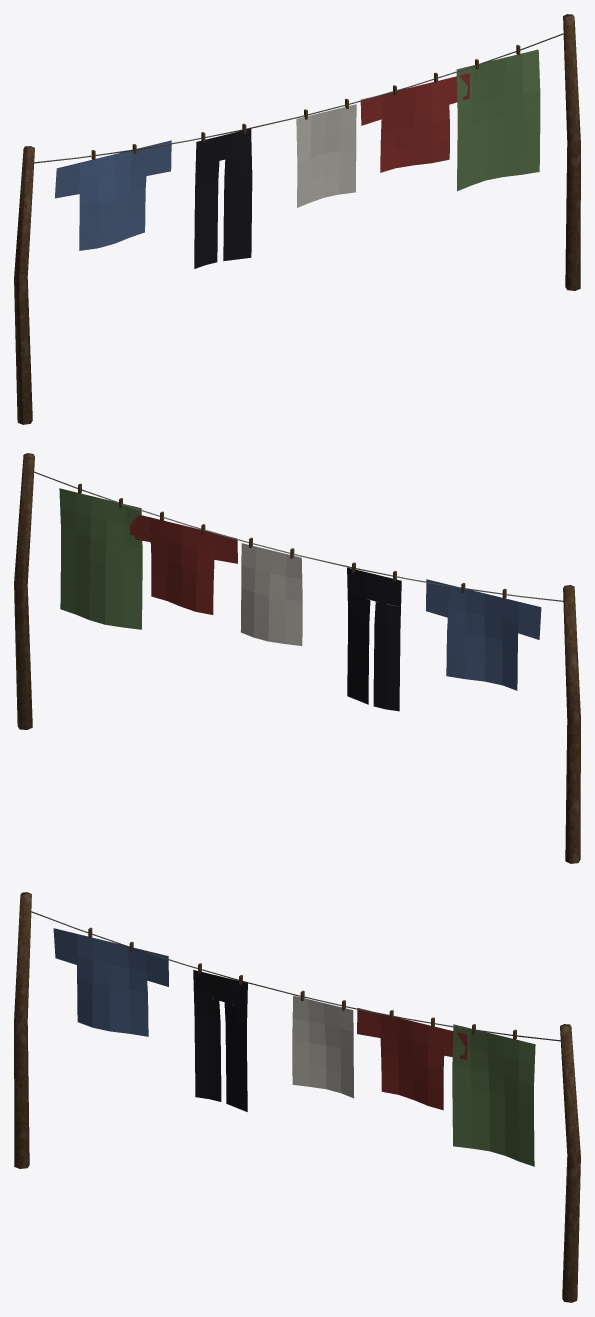
The model's file is clothesline.glb.
The picture shows the model from 3 angles, top to bottom: view 1: azimuth 30°, elevation 25°; view 2: azimuth 150°, elevation 25°; view 3: azimuth 330°, elevation 25°; orthographic projection.
Visible parts, largest first — view 1: clothesline_mesh; view 2: clothesline_mesh; view 3: clothesline_mesh.
Boxes of the visible parts, left/top/right/bottom form: clothesline_mesh: left=14, top=14, right=580, bottom=424; clothesline_mesh: left=14, top=453, right=580, bottom=863; clothesline_mesh: left=14, top=892, right=580, bottom=1302.
Size of the model in its own units: 4.13 by 1.9 by 0.1118.
3 materials, 2 textured.
